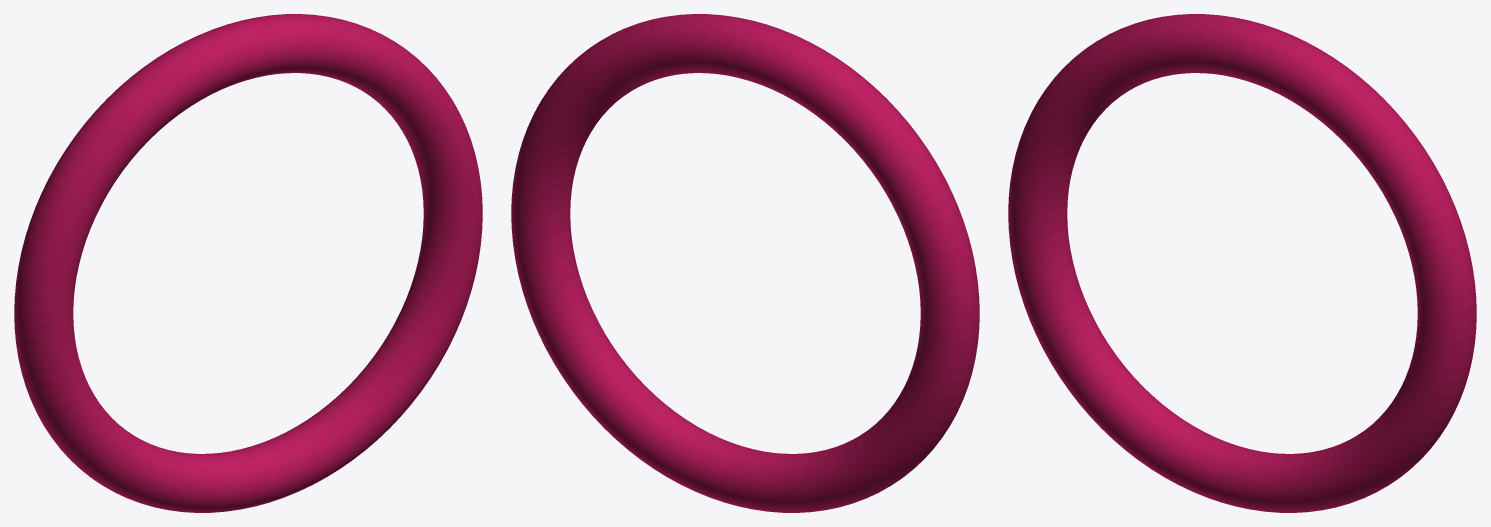
The picture shows the model from 3 angles, left to right: view 1: azimuth 30°, elevation 25°; view 2: azimuth 150°, elevation 25°; view 3: azimuth 330°, elevation 25°; orthographic projection.
Visible parts, largest first — view 1: world; view 2: world; view 3: world.
Boxes of the visible parts, left/top/right/bottom form: world: left=14, top=14, right=482, bottom=512; world: left=511, top=14, right=979, bottom=512; world: left=1008, top=14, right=1476, bottom=512.
Bounding box in the file's own units: 30 × 30 × 3.33.
